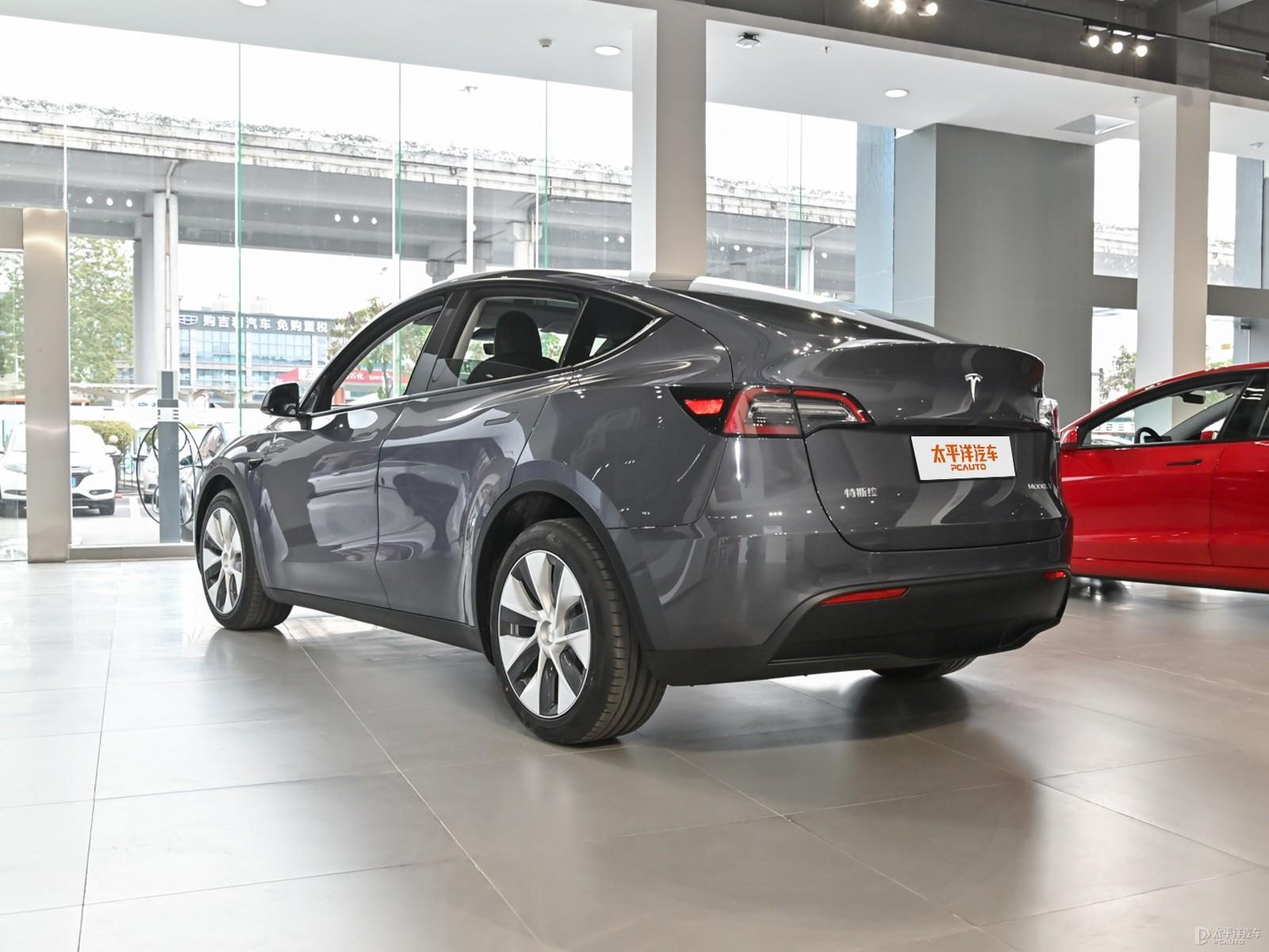Tesla: (964, 371, 983, 404)
